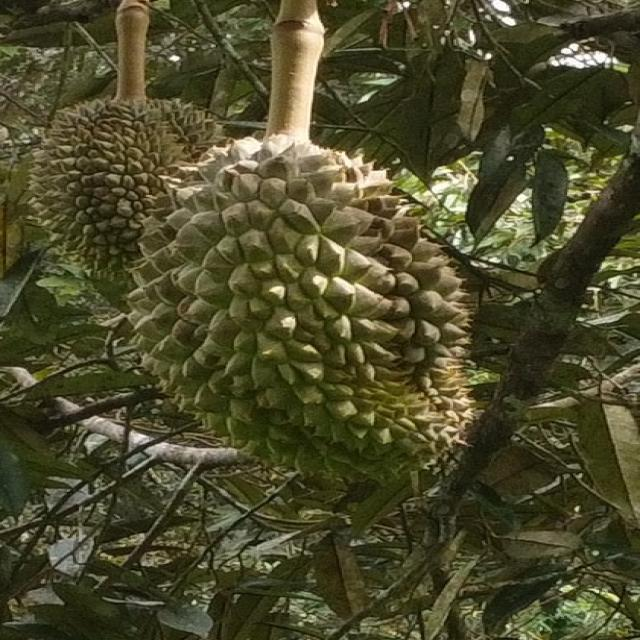immature: (119, 128, 486, 480)
